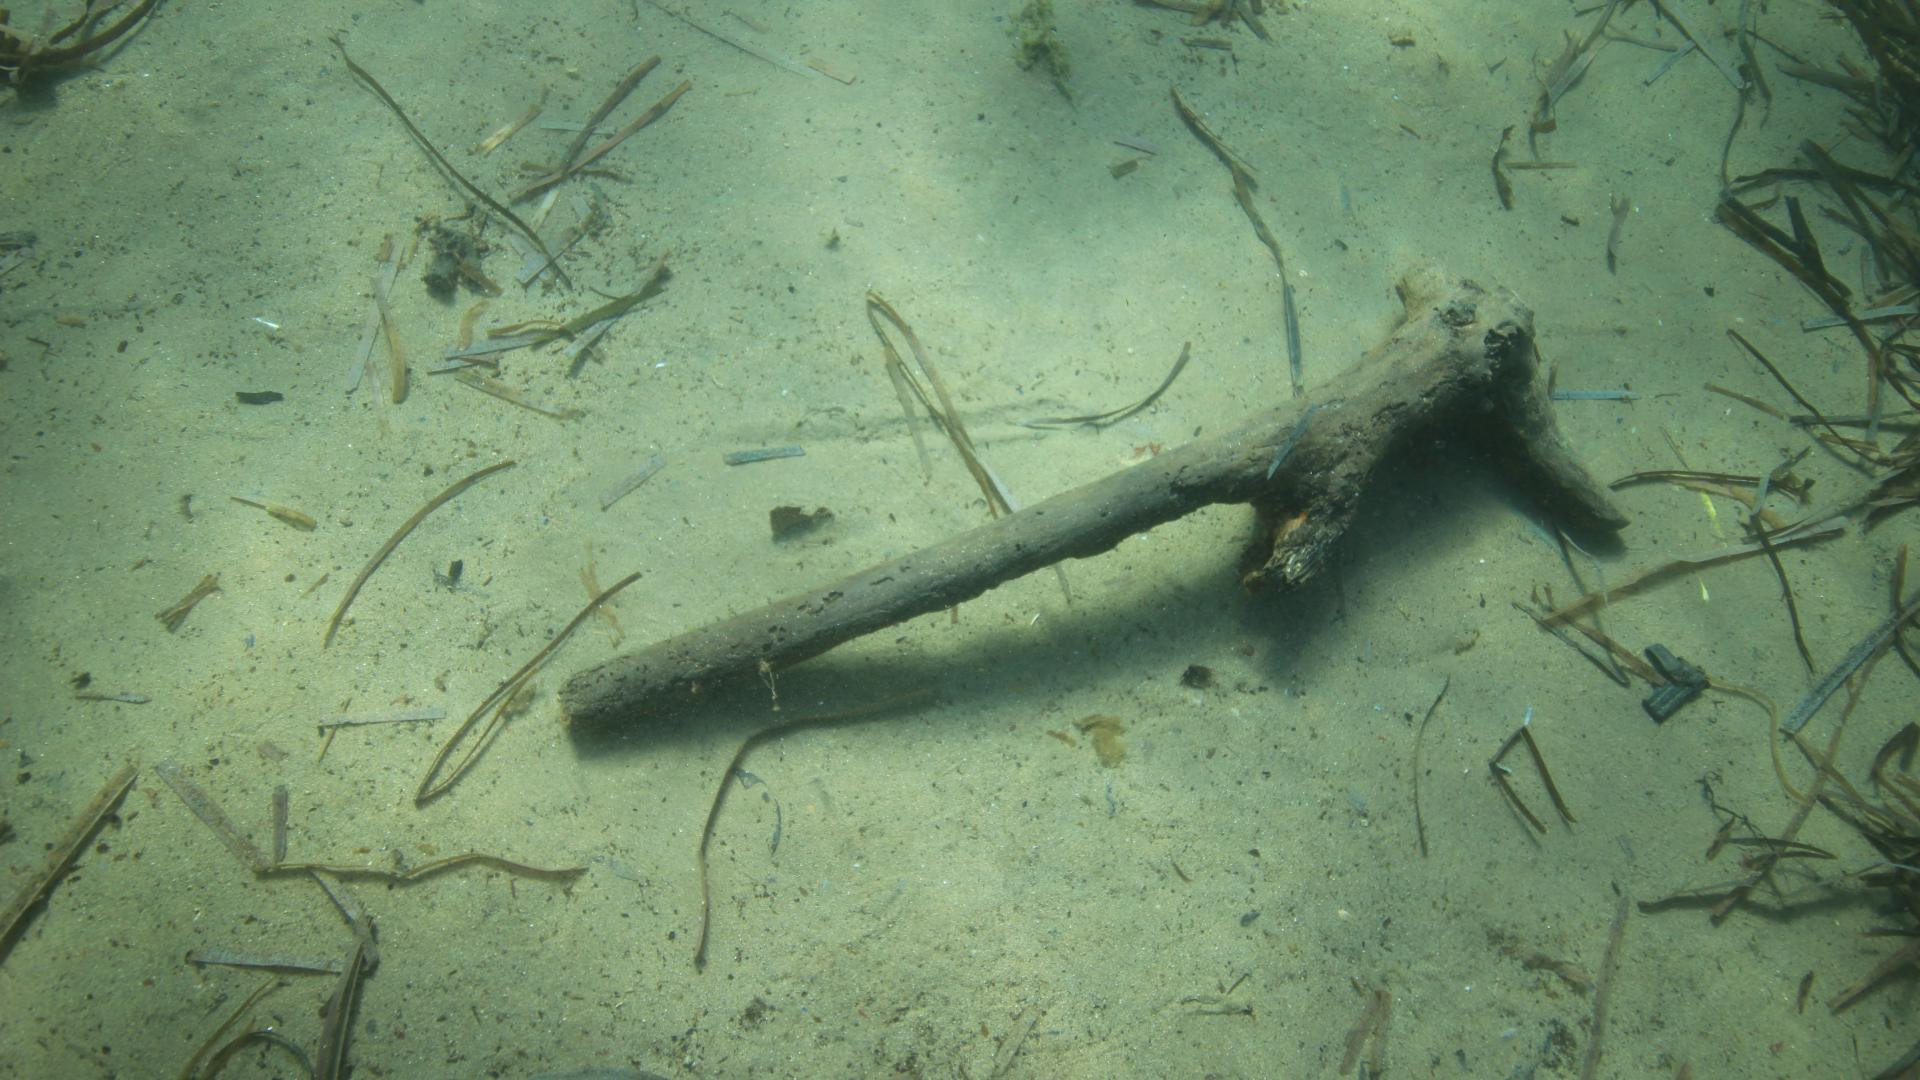wood: (558, 261, 1633, 725)
